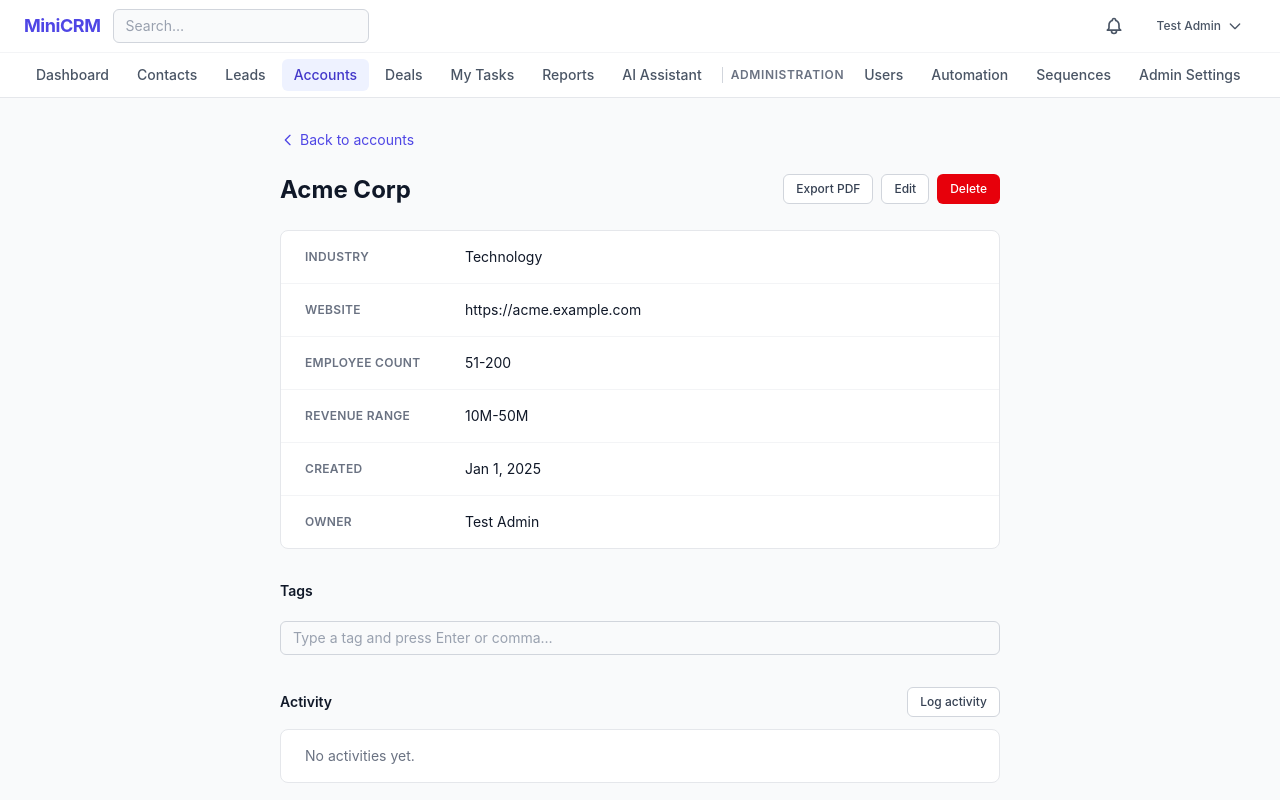
AccountDetailPage › shows the edit form when Edit is clicked
Click the button with test id "edit-account-button" at (905, 189), box [881,174,929,204]
(page scrolled)
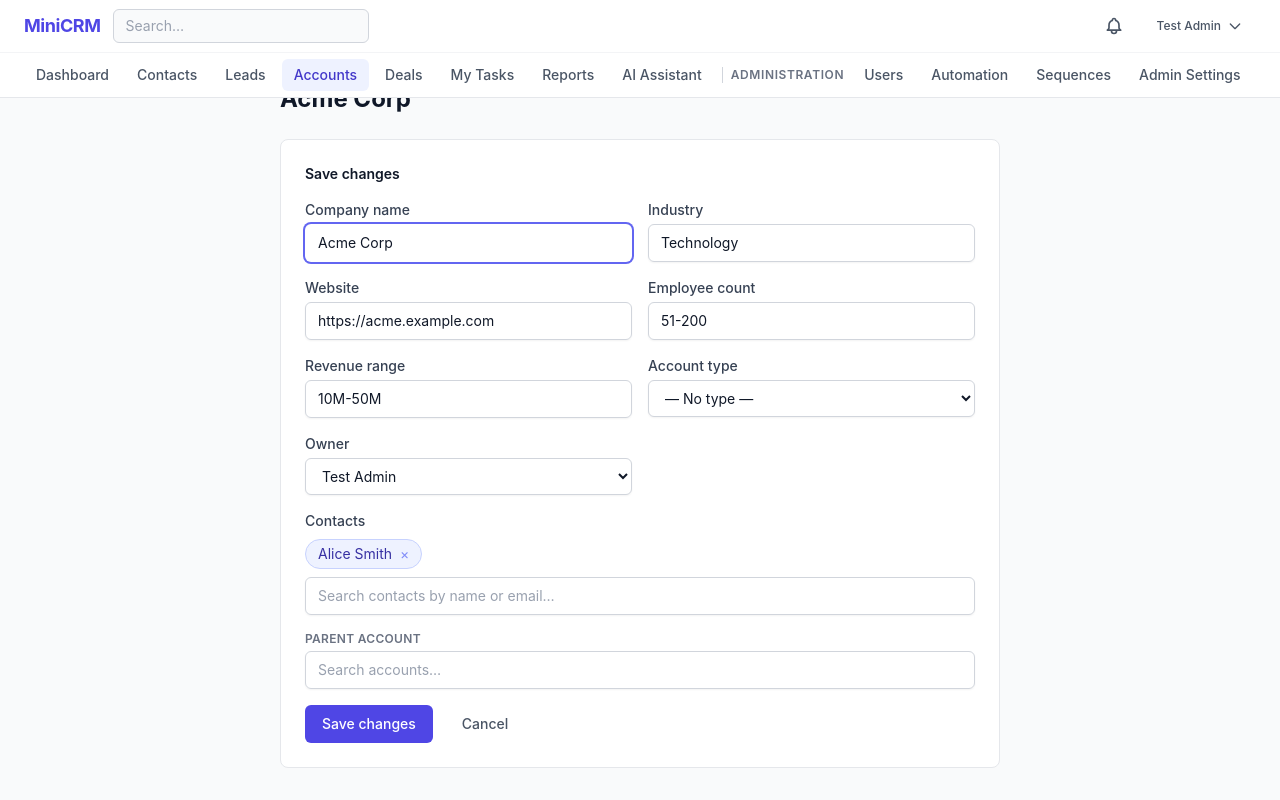
Result: the form with test id "account-form" is shown at [305,200,975,743]
